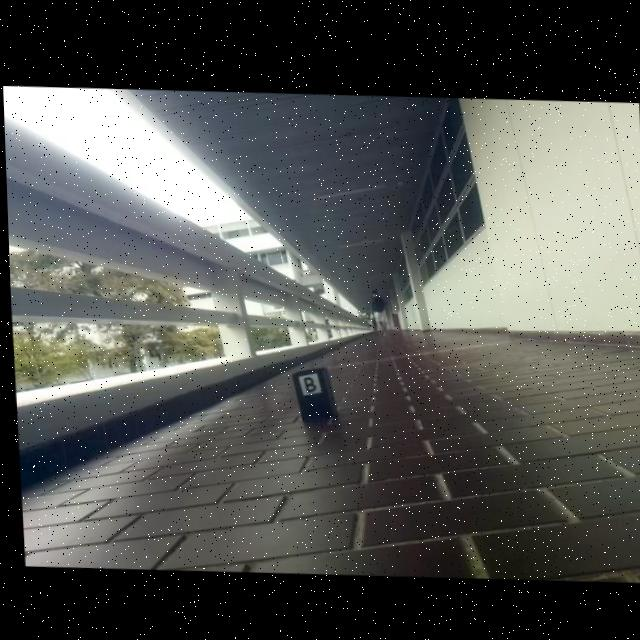B: (299, 373, 314, 391)
